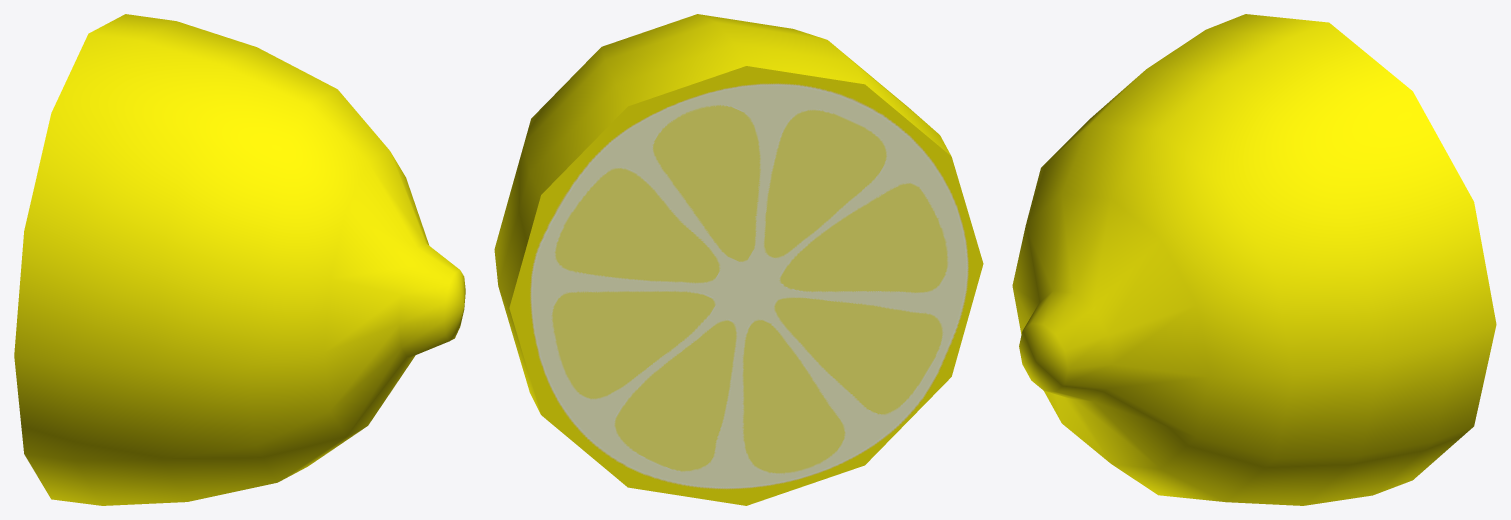
The model's file is Lemon Top.FBX.
The picture shows the model from 3 angles, left to right: view 1: azimuth 30°, elevation 25°; view 2: azimuth 150°, elevation 25°; view 3: azimuth 270°, elevation 25°; orthographic projection. The views are drawn at different scales.
Parts seen in each view (by area): view 1: Capsule001; view 2: Capsule001; view 3: Capsule001.
Boxes of the visible parts, x1=… form: Capsule001: x1=14, y1=14, x2=465, y2=505; Capsule001: x1=494, y1=14, x2=983, y2=505; Capsule001: x1=1012, y1=14, x2=1496, y2=505.
Bounding box in the file's own units: 68.58 × 69.34 × 67.71.
